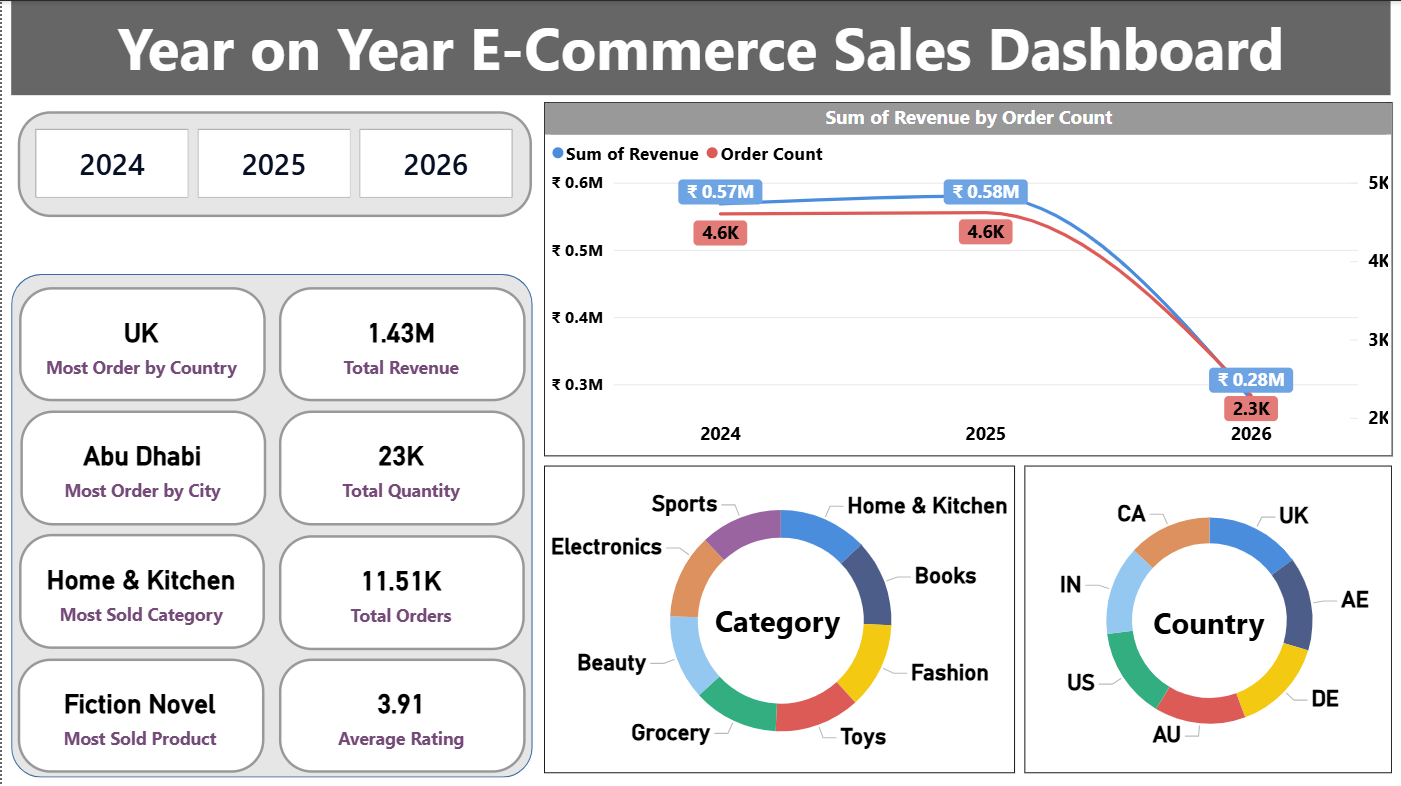

This screenshot's page, from the dashboard's own definition file:
{"tool":"powerbi","page":{"name":"Overview","canvas":[1280,720],"ordinal":0},"visuals":[{"type":"donutChart","title":"Country by Quantity","fields":{"Category":["ecommerce1.Country"],"Y":["Sum(ecommerce1.Quantity)"]},"box":[934.6,424.4,336,281.2],"z":0},{"type":"shape","box":[8.7,250.1,476.6,460.4],"z":1000},{"type":"card","fields":{"Values":["Min(ecommerce1.Product_Category)"]},"box":[16.2,487.7,225,105],"z":2000},{"type":"donutChart","title":"Product Category by Quantity","fields":{"Category":["ecommerce1.Product_Category"],"Y":["Sum(ecommerce1.Quantity)"]},"box":[495.3,424.4,430.6,281.2],"z":3000},{"type":"textbox","box":[8.9,0,1261.3,86.3],"z":4000},{"type":"card","fields":{"Values":["Min(ecommerce1.Country)"]},"box":[16.2,261.3,225.2,104.5],"z":5000},{"type":"advancedSlicerVisual","fields":{"Values":["ecommerce1.Order_Date.Variation.Date Hierarchy.Year"]},"box":[14.9,100.8,470.4,97.1],"z":6000},{"type":"card","fields":{"Values":["Min(ecommerce1.Product_Name)"]},"box":[14.9,601.1,225.2,104.5],"z":7000},{"type":"card","fields":{"Values":["Min(ecommerce1.Shipping_City)"]},"box":[16.8,374.3,225,105],"z":8000},{"type":"lineChart","title":"Sum of Revenue by Order Count","fields":{"Category":["ecommerce1.Order_Date.Variation.Date Hierarchy.Year","ecommerce1.Order_Date.Variation.Date Hierarchy.Quarter","ecommerce1.Order_Date.Variation.Date Hierarchy.Month","ecommerce1.Order_Date.Variation.Date Hierarchy.Day"],"Y":["Sum(ecommerce1.Revenue)"],"Y2":["CountNonNull(ecommerce1.Order_ID)"]},"box":[495.3,92.1,775.3,323.6],"z":9000},{"type":"card","fields":{"Values":["Sum(ecommerce1.Revenue)"]},"box":[252.9,261.6,225.2,104.5],"z":10000},{"type":"card","fields":{"Values":["Sum(ecommerce1.Quantity)"]},"box":[252.9,374.6,225,105],"z":11000},{"type":"card","fields":{"Values":["CountNonNull(ecommerce1.Order_ID)"]},"box":[252.9,488,225,105],"z":12000},{"type":"card","fields":{"Values":["Avg(ecommerce1.Customer_Rating)"]},"box":[252.9,601.4,225.2,104.5],"z":13000},{"type":"textbox","box":[647.1,542.6,128.2,46],"z":14000},{"type":"textbox","box":[1047.8,545.1,114.5,46],"z":15000}]}

Visuals, with their boxes in screenshot pixels (x1, y1, x2, y2), scaled from the page's 1280x720 canvas onto the 1401x786 screenshot:
"Country by Quantity" donutChart: left=1023, top=463, right=1391, bottom=770
shape: left=10, top=273, right=531, bottom=776
card - Min(ecommerce1.Product_Category): left=18, top=532, right=264, bottom=647
"Product Category by Quantity" donutChart: left=542, top=463, right=1013, bottom=770
textbox: left=10, top=0, right=1390, bottom=94
card - Min(ecommerce1.Country): left=18, top=285, right=264, bottom=399
advancedSlicerVisual - ecommerce1.Order_Date.Variation.Date Hierarchy.Year: left=16, top=110, right=531, bottom=216
card - Min(ecommerce1.Product_Name): left=16, top=656, right=263, bottom=770
card - Min(ecommerce1.Shipping_City): left=18, top=409, right=265, bottom=523
"Sum of Revenue by Order Count" lineChart: left=542, top=101, right=1391, bottom=454
card - Sum(ecommerce1.Revenue): left=277, top=286, right=523, bottom=400
card - Sum(ecommerce1.Quantity): left=277, top=409, right=523, bottom=524
card - CountNonNull(ecommerce1.Order_ID): left=277, top=533, right=523, bottom=647
card - Avg(ecommerce1.Customer_Rating): left=277, top=657, right=523, bottom=771
textbox: left=708, top=592, right=849, bottom=643
textbox: left=1147, top=595, right=1272, bottom=645
